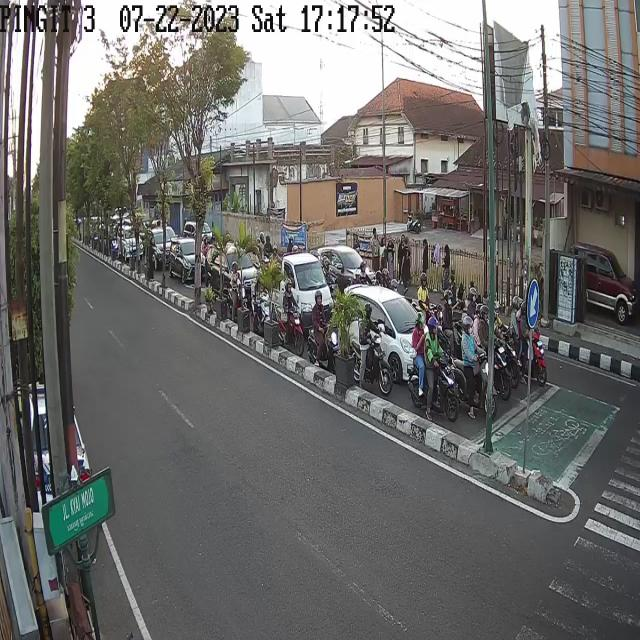car: (341, 281, 432, 380), (576, 244, 636, 326), (205, 244, 260, 301), (316, 242, 376, 292), (169, 236, 208, 285), (144, 228, 174, 272), (116, 220, 144, 260)
motorcycle: (407, 314, 456, 422), (447, 316, 495, 419), (346, 303, 392, 394), (472, 300, 512, 396), (308, 287, 342, 374), (513, 295, 545, 386), (277, 277, 302, 352), (228, 261, 247, 326)
truck: (256, 249, 332, 340)
